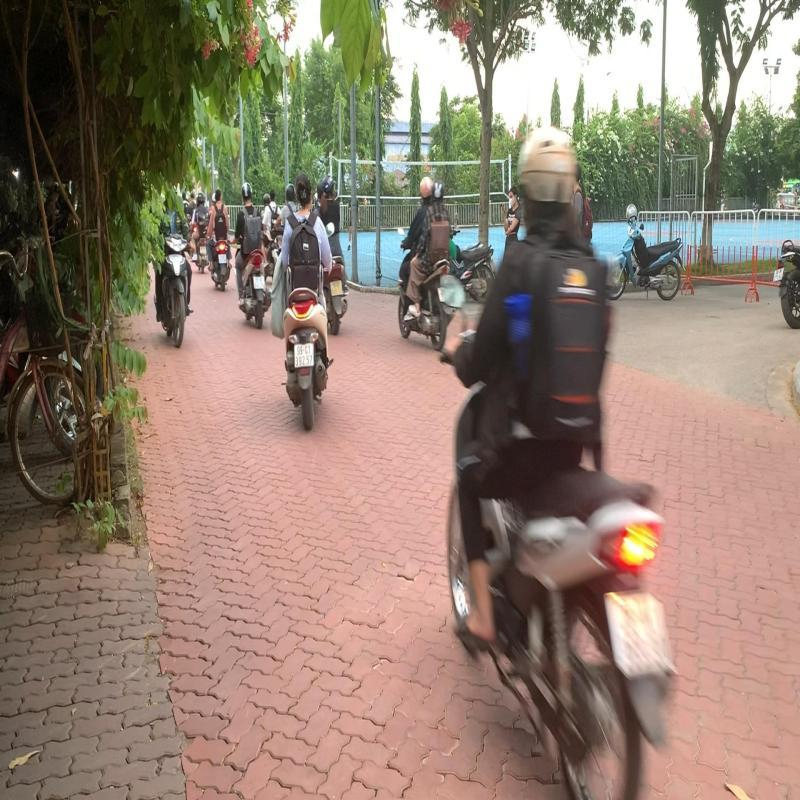nohelmet: (293, 170, 314, 210)
